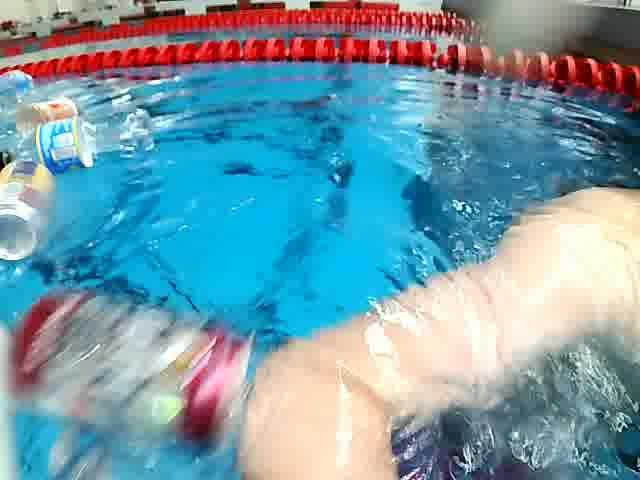Bottle: (4, 105, 160, 177)
Can: (8, 285, 256, 457), (0, 154, 62, 266)
